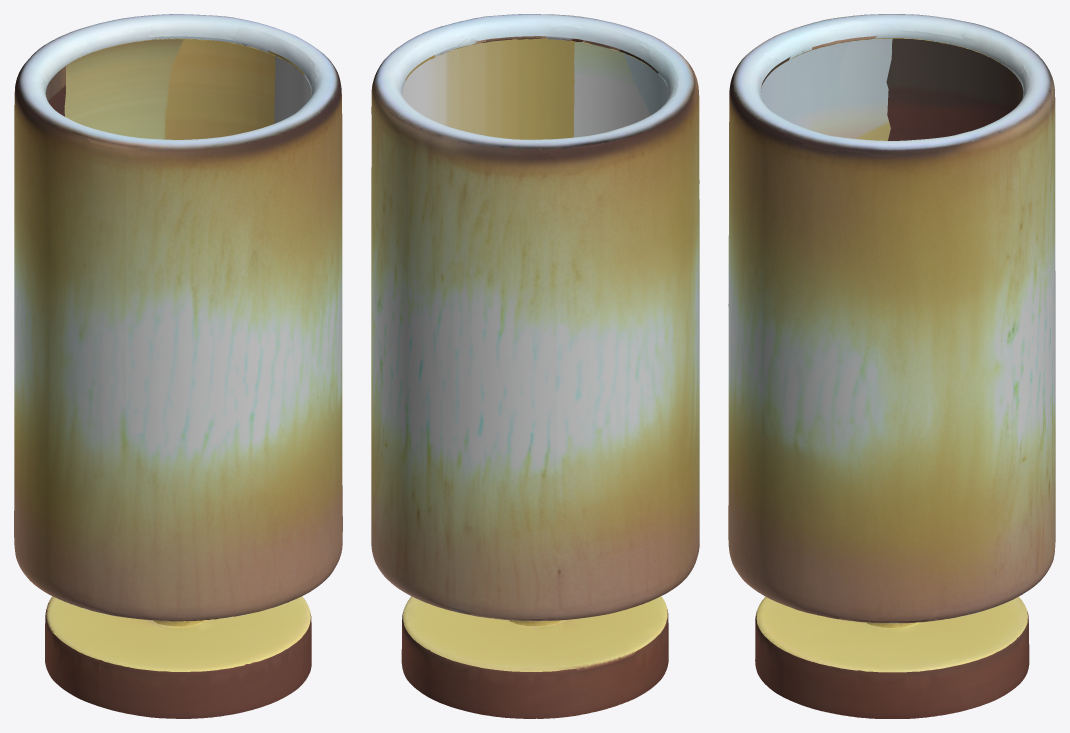
File: lamp__lamp#1.glb
3 views of the same model, side by side, from view 1: azimuth 30°, elevation 25°; view 2: azimuth 150°, elevation 25°; view 3: azimuth 270°, elevation 25° (orthographic).
Visible parts, largest first — view 1: tmpd3y36us7.ply; view 2: tmpd3y36us7.ply; view 3: tmpd3y36us7.ply.
Boxes of the visible parts, box(x1,y1,x2,y2) form: tmpd3y36us7.ply: box(14, 14, 342, 718); tmpd3y36us7.ply: box(371, 14, 699, 718); tmpd3y36us7.ply: box(728, 14, 1055, 718).
Size of the model in its own units: 1.02 by 1.99 by 1.01.
1 material, 1 textured.
